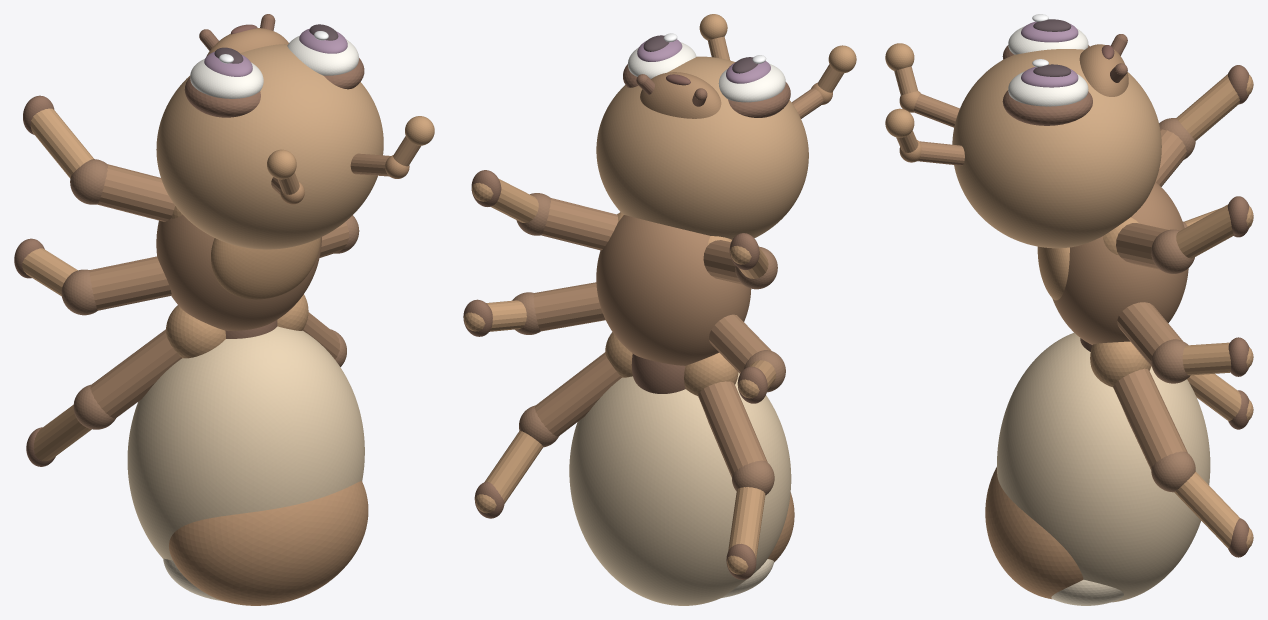
The model's file is ant_worker_v3.glb.
3 views of the same model, side by side, from view 1: azimuth 30°, elevation 25°; view 2: azimuth 150°, elevation 25°; view 3: azimuth 270°, elevation 25° (orthographic). The views are drawn at different scales.
Visible parts, largest first — view 1: Abdomen_Main, Head, Abdomen_Dorsal_Band, Thorax, Thorax_Dorsal_Plate, Leg_L3_Femur, Leg_L2_Femur, Leg_L1_Femur, Leg_L1_Tibia, Leg_L3_Coxa, Eye_L_White, Leg_L3_Tibia (+16 smaller); view 2: Abdomen_Main, Head, Thorax, Leg_L3_Femur, Leg_R3_Femur, Leg_R1_Femur, Leg_R2_Femur, Muzzle, Leg_L2_Femur, Leg_R3_Tibia, Leg_L3_Tibia, Petiole (+27 smaller); view 3: Abdomen_Main, Head, Thorax, Abdomen_Dorsal_Band, Leg_R3_Femur, Leg_R3_Tibia, Leg_R2_Femur, Leg_L1_Tibia, Leg_R3_Coxa, Leg_R1_Tibia, Eye_R_Socket, Eye_R_White (+22 smaller).
Boxes of the visible parts, x1=… form: Abdomen_Main: x1=127, y1=326, x2=364, y2=560; Head: x1=156, y1=44, x2=383, y2=249; Abdomen_Dorsal_Band: x1=169, y1=481, x2=368, y2=605; Thorax: x1=156, y1=214, x2=321, y2=330; Thorax_Dorsal_Plate: x1=211, y1=237, x2=320, y2=299; Leg_L3_Femur: x1=90, y1=329, x2=181, y2=418; Leg_L2_Femur: x1=89, y1=256, x2=171, y2=310; Leg_L1_Femur: x1=97, y1=164, x2=175, y2=221; Leg_L1_Tibia: x1=30, y1=108, x2=93, y2=178; Leg_L3_Coxa: x1=166, y1=305, x2=225, y2=358; Eye_L_White: x1=190, y1=59, x2=263, y2=98; Leg_L3_Tibia: x1=33, y1=405, x2=91, y2=460; Abdomen_Main: x1=569, y1=372, x2=791, y2=605; Head: x1=596, y1=56, x2=808, y2=239; Thorax: x1=596, y1=215, x2=751, y2=365; Leg_L3_Femur: x1=698, y1=381, x2=767, y2=477; Leg_R3_Femur: x1=534, y1=352, x2=621, y2=436; Leg_R1_Femur: x1=541, y1=198, x2=617, y2=250; Leg_R2_Femur: x1=533, y1=282, x2=605, y2=331; Muzzle: x1=640, y1=72, x2=721, y2=118; Leg_L2_Femur: x1=709, y1=314, x2=771, y2=373; Leg_R3_Tibia: x1=484, y1=431, x2=543, y2=503; Leg_L3_Tibia: x1=728, y1=487, x2=765, y2=559; Petiole: x1=631, y1=353, x2=685, y2=393; Abdomen_Main: x1=997, y1=332, x2=1210, y2=602; Head: x1=952, y1=49, x2=1161, y2=248; Thorax: x1=1052, y1=182, x2=1188, y2=344; Abdomen_Dorsal_Band: x1=985, y1=467, x2=1083, y2=599; Leg_R3_Femur: x1=1113, y1=368, x2=1187, y2=469; Leg_R3_Tibia: x1=1174, y1=472, x2=1239, y2=547; Leg_R2_Femur: x1=1117, y1=302, x2=1182, y2=366; Leg_L1_Tibia: x1=1176, y1=74, x2=1239, y2=140; Leg_R3_Coxa: x1=1090, y1=341, x2=1150, y2=387; Leg_R1_Tibia: x1=1176, y1=204, x2=1234, y2=258; Eye_R_Socket: x1=1002, y1=90, x2=1092, y2=125; Eye_R_White: x1=1008, y1=71, x2=1088, y2=106.
Bounding box in the file's own units: 1.87 × 3.15 × 1.9.
